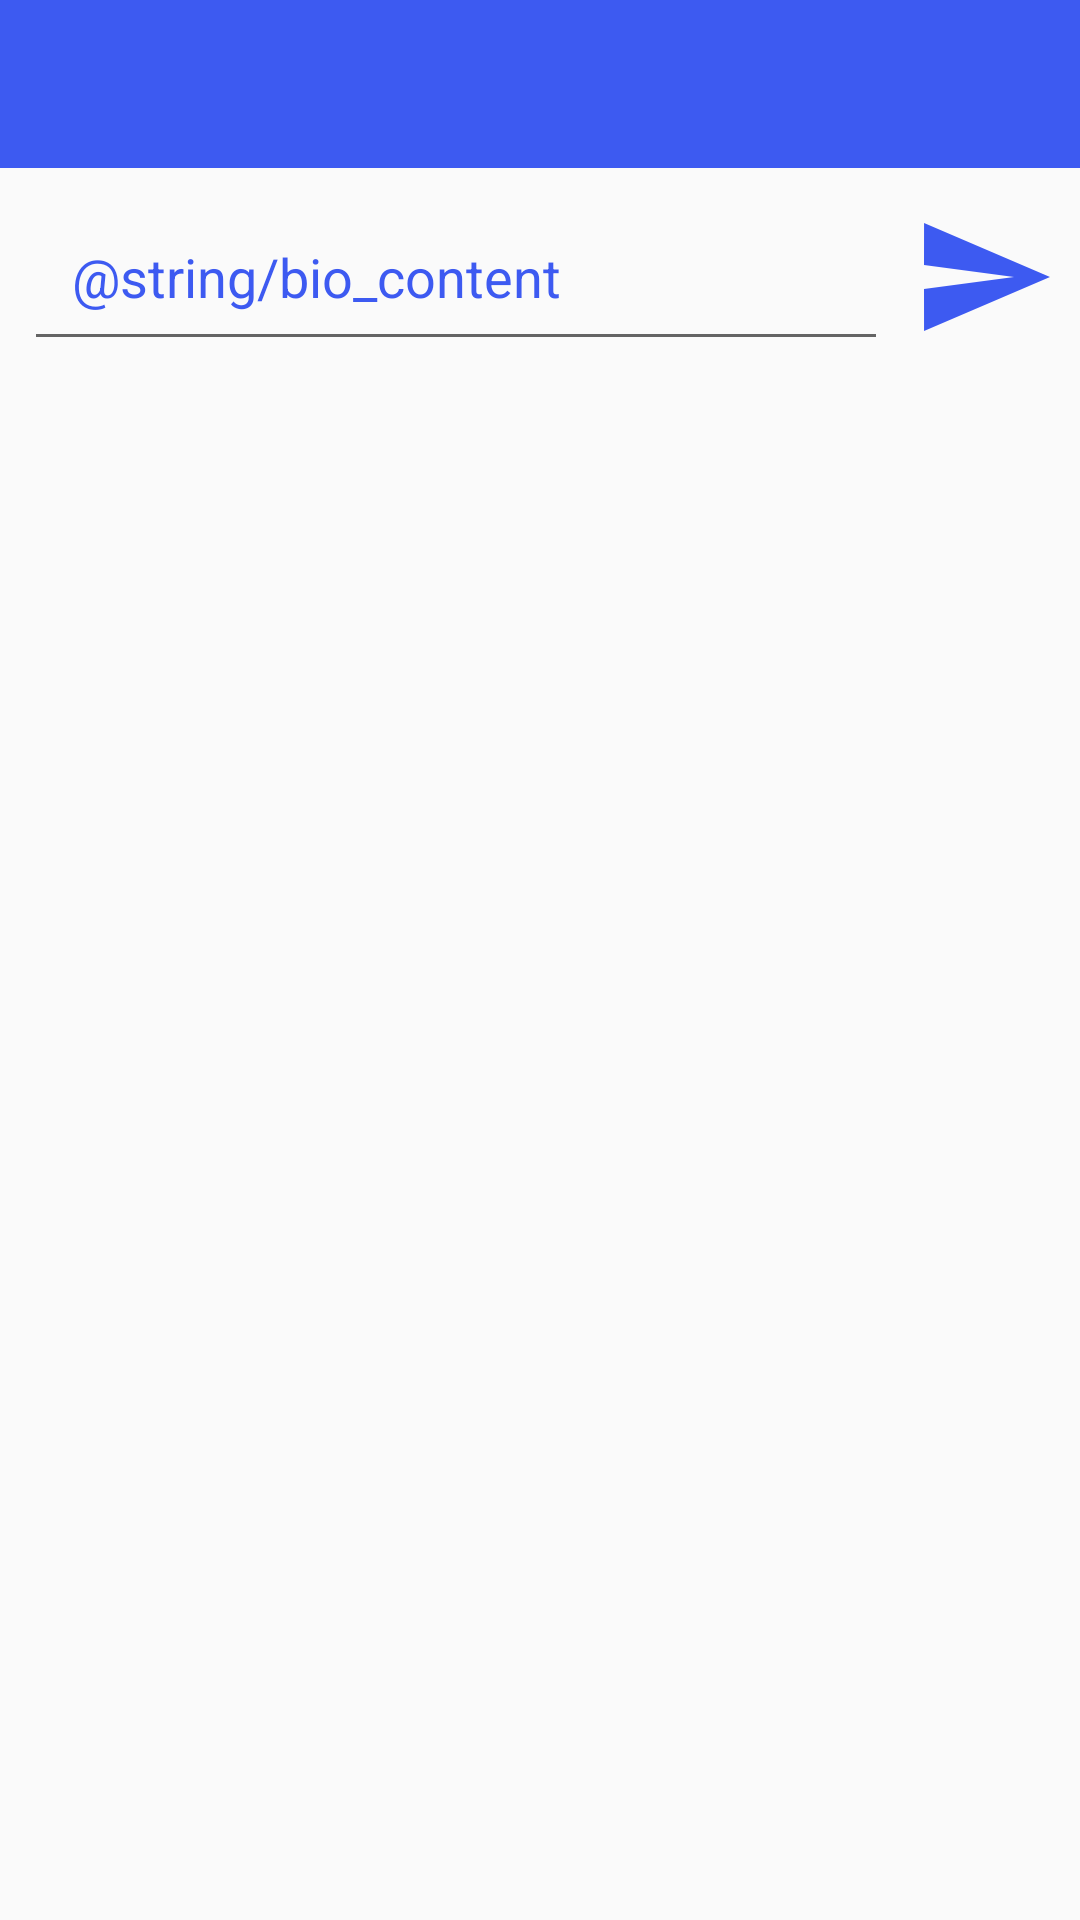

Point at icon controls on the screen. Image size 1080px x 1920px, points as (x,y).
send: (987,277)
